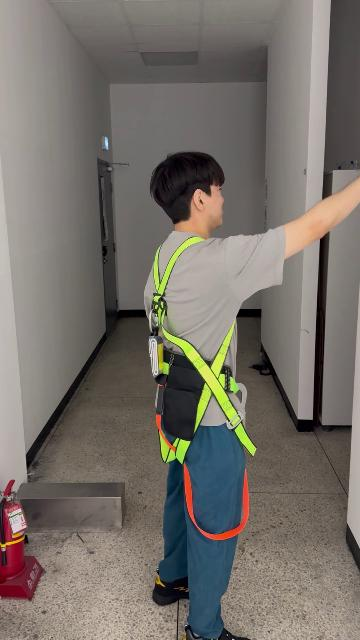helmet_not_worn: (148, 148, 230, 227)
shoe_worn: (152, 570, 189, 605), (184, 624, 255, 640)
vest_worn: (148, 248, 254, 537)
